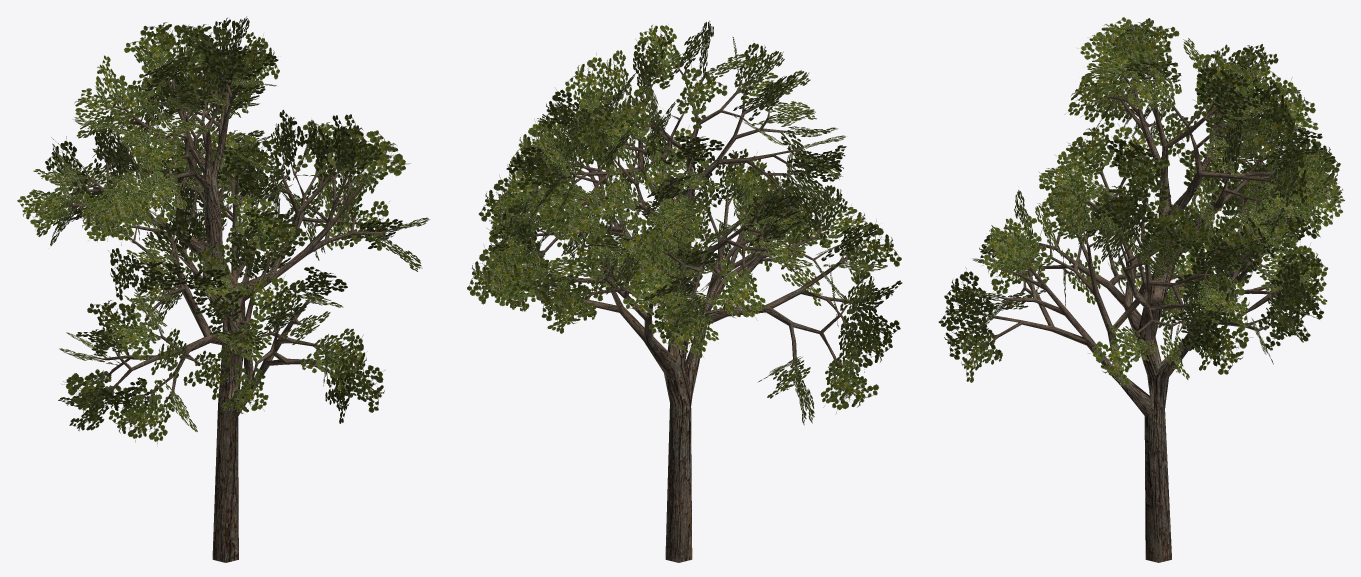
The model's file is tree-2-5.obj.
3 renders of one model, left to right at view 1: azimuth 30°, elevation 25°; view 2: azimuth 150°, elevation 25°; view 3: azimuth 270°, elevation 25°, orthographic.
Visible parts, largest first — view 1: Twig0, Tree0; view 2: Twig0, Tree0; view 3: Twig0, Tree0.
Part boxes in pixels (x1,y1,x2,y2): Twig0: (17, 16, 430, 446); Tree0: (63, 53, 394, 562); Twig0: (467, 20, 902, 425); Tree0: (527, 60, 860, 562); Twig0: (938, 17, 1344, 385); Tree0: (977, 64, 1283, 562).
Bounding box in the file's own units: 3.93 × 5.26 × 3.73.
